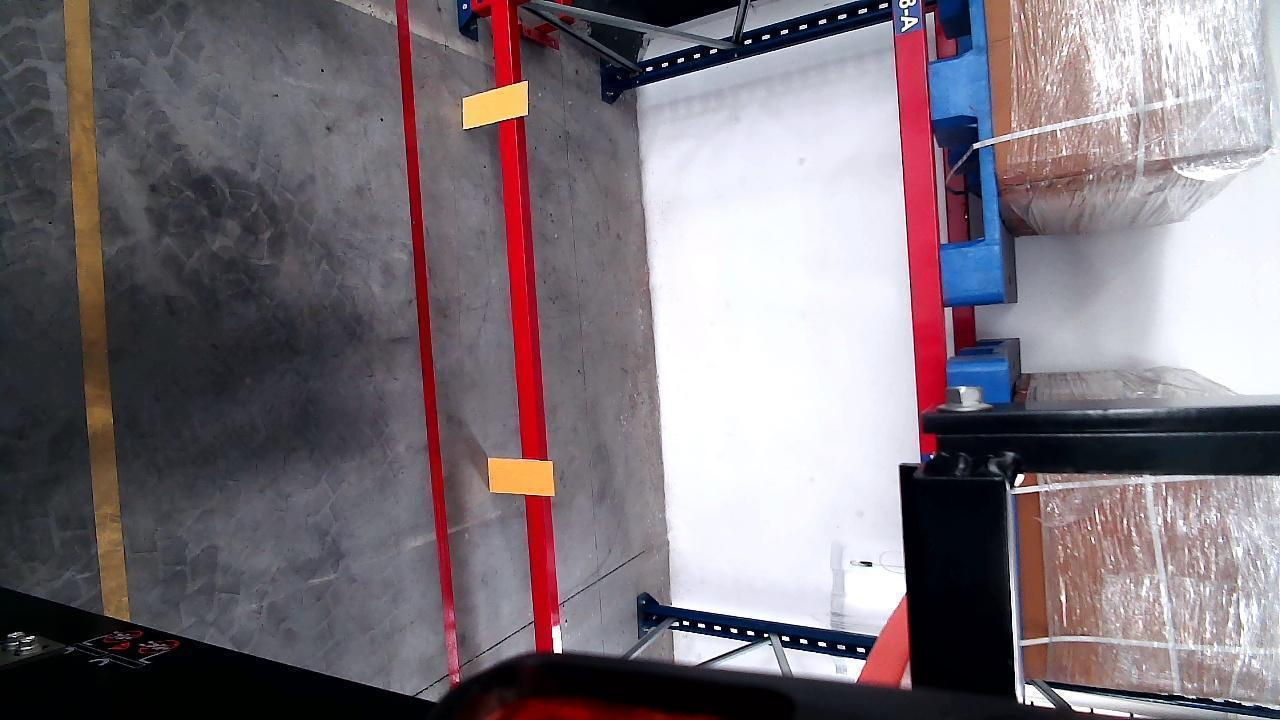red_line: (394, 0, 466, 688)
yellow_line: (63, 0, 132, 629)
